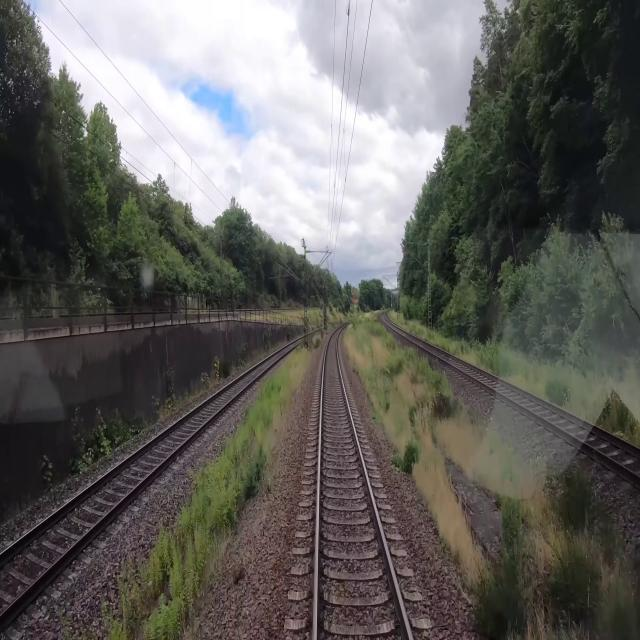Plant: (342, 310, 639, 639), (100, 344, 310, 639)
